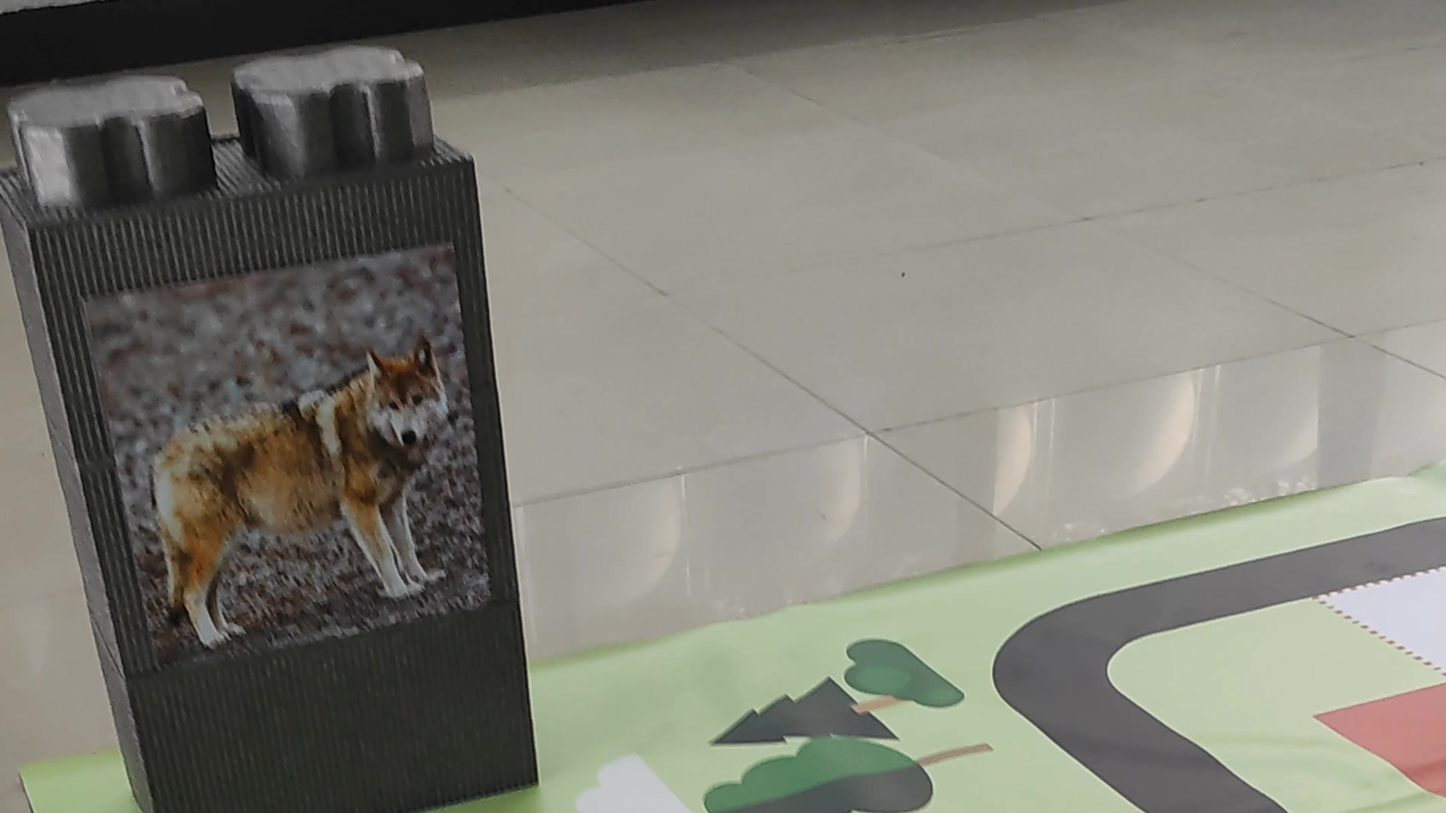wolf: (102, 314, 463, 631)
